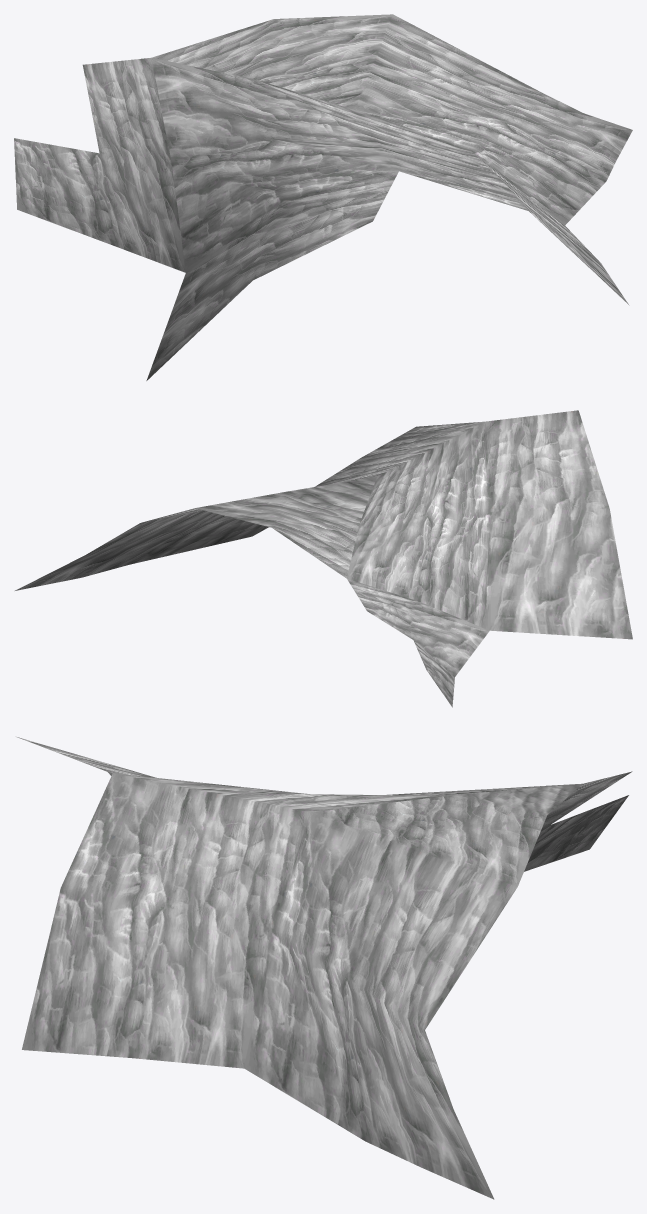
The model's file is SWORDLIGHT20_PS-AREA03_54.fbx.
3 renders of one model, top to bottom at view 1: azimuth 30°, elevation 25°; view 2: azimuth 150°, elevation 25°; view 3: azimuth 270°, elevation 25°, orthographic. The views are drawn at different scales.
Visible parts, largest first — view 1: SWORDLIGHT20_PS-AREA03_54; view 2: SWORDLIGHT20_PS-AREA03_54; view 3: SWORDLIGHT20_PS-AREA03_54.
Part boxes in pixels (box(x1,y1,x2,y2)): SWORDLIGHT20_PS-AREA03_54: box(14, 14, 632, 380); SWORDLIGHT20_PS-AREA03_54: box(15, 410, 632, 707); SWORDLIGHT20_PS-AREA03_54: box(17, 737, 632, 1199).
Size of the model in its own units: 244407 by 69656 by 187110.
1 material, 1 textured.
